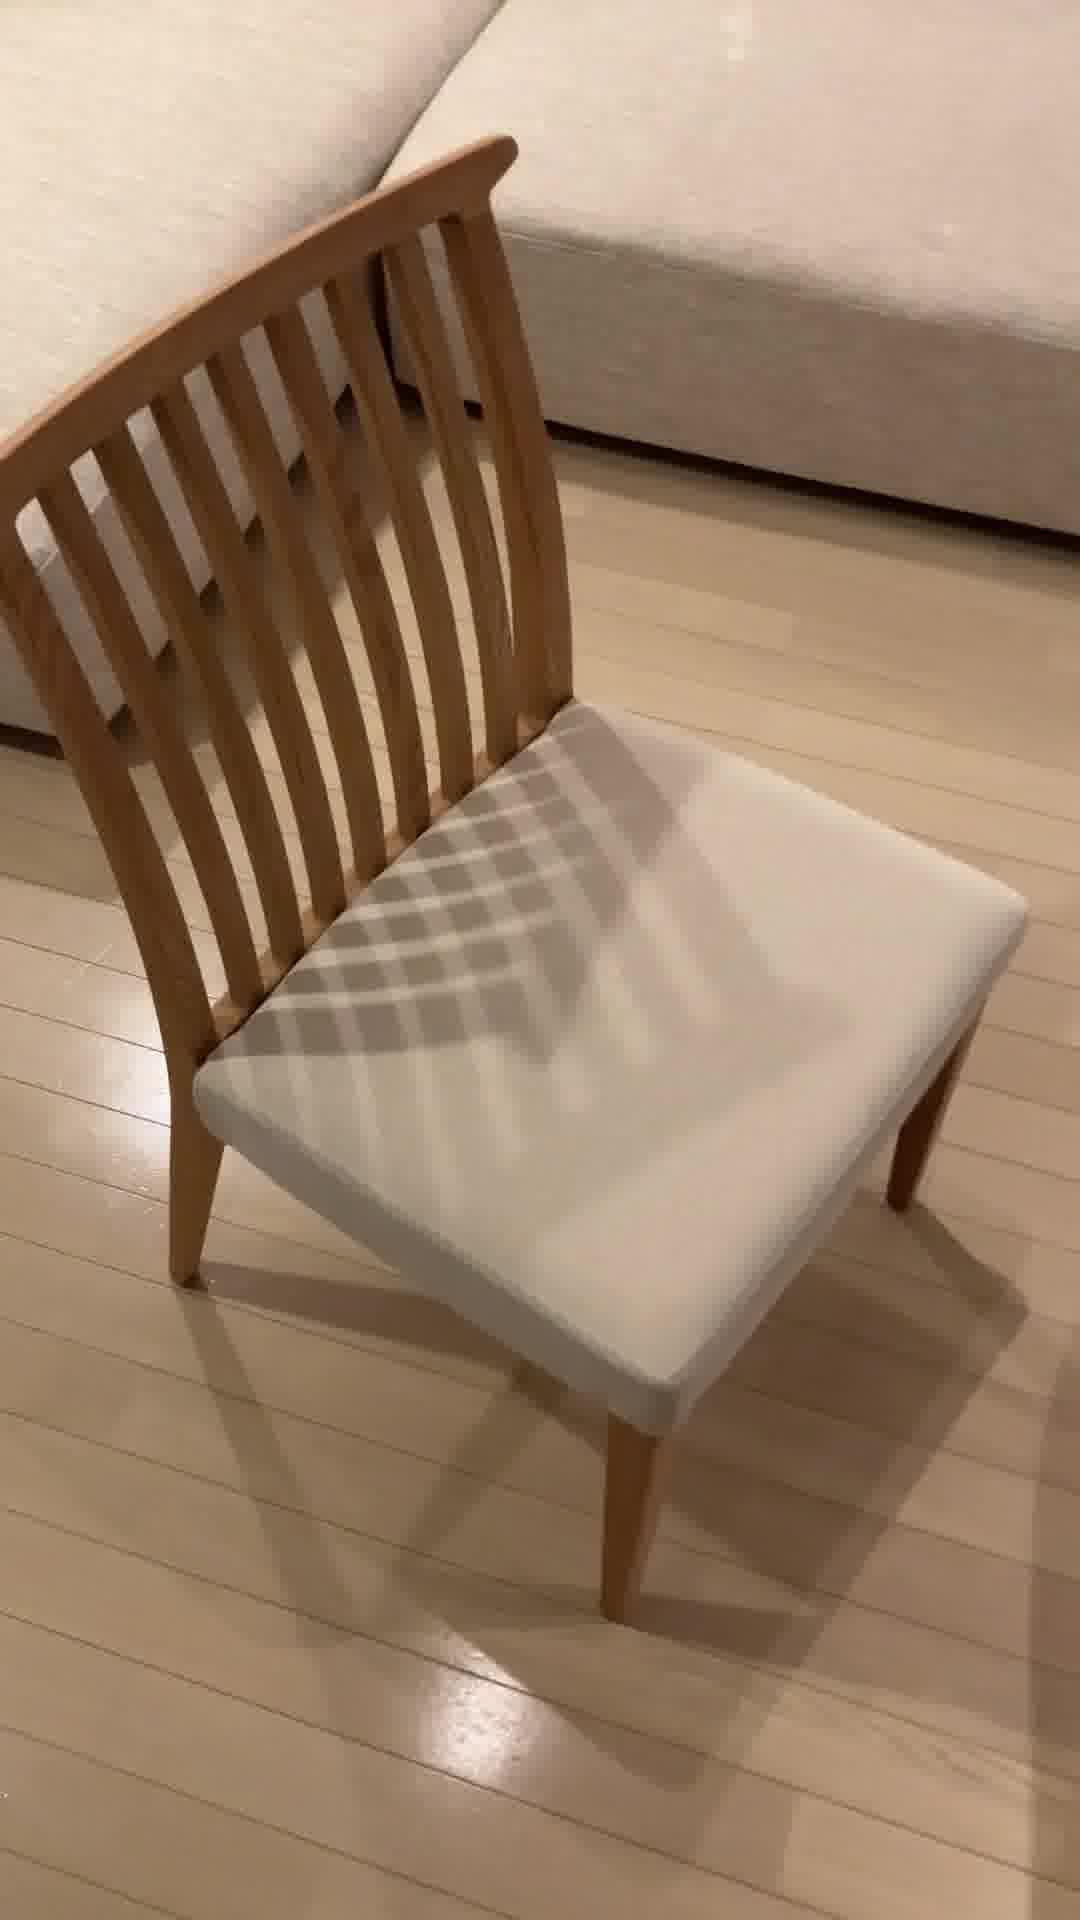takumikan-chair: (0, 131, 1029, 1622)
